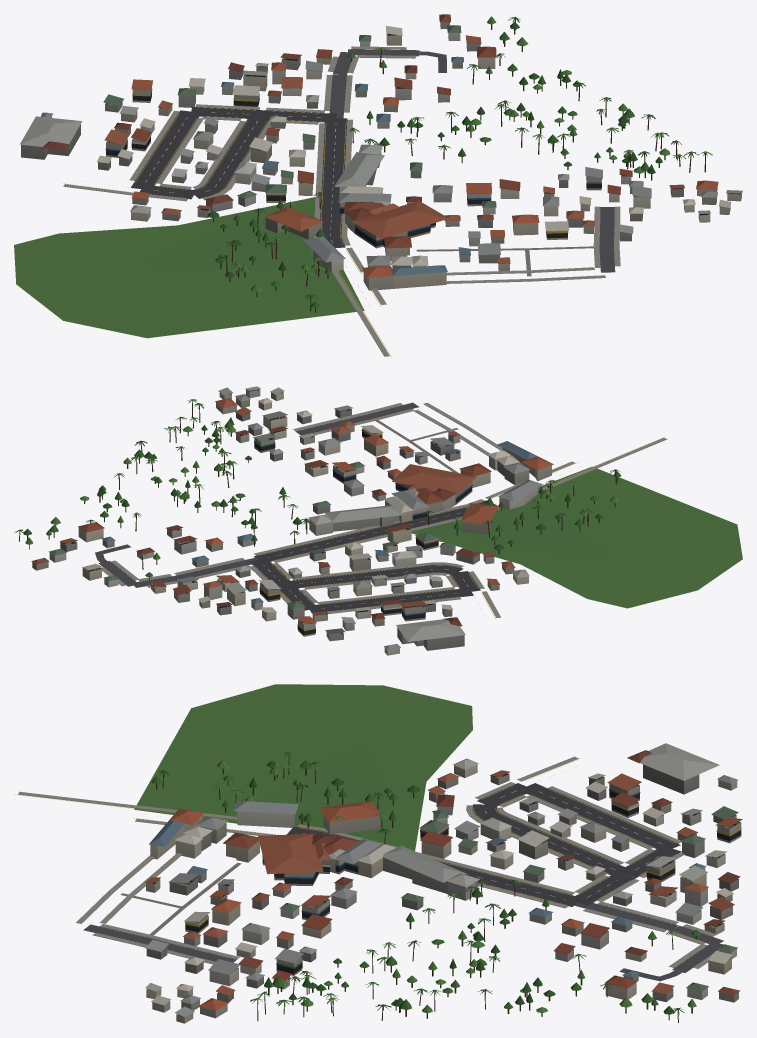
3 renders of one model, top to bottom at view 1: azimuth 30°, elevation 25°; view 2: azimuth 150°, elevation 25°; view 3: azimuth 270°, elevation 25°, orthographic. The views are drawn at different scales.
Visible parts, largest first — view 1: Landuse__r0c-2, Buildings_Infill__r0c-2-col, Buildings__r0c-2-col, Roads_Major__r0c-2, Sidewalks__r0c-2-col, Props_Foliage__r0c-2, Roads_Minor__r0c-2, Props_Solid__r0c-2-col, Markings__r0c-2; view 2: Landuse__r0c-2, Buildings_Infill__r0c-2-col, Buildings__r0c-2-col, Sidewalks__r0c-2-col, Roads_Major__r0c-2, Props_Foliage__r0c-2, Roads_Minor__r0c-2, Props_Solid__r0c-2-col, Markings__r0c-2; view 3: Landuse__r0c-2, Buildings_Infill__r0c-2-col, Buildings__r0c-2-col, Sidewalks__r0c-2-col, Roads_Major__r0c-2, Props_Foliage__r0c-2, Roads_Minor__r0c-2, Props_Solid__r0c-2-col, Markings__r0c-2, Footways__r0c-2.
Part boxes in pixels (x1,y1,x2,y2): Landuse__r0c-2: (14,197,364,338); Buildings_Infill__r0c-2-col: (41,14,742,271); Buildings__r0c-2-col: (20,116,448,290); Roads_Major__r0c-2: (131,107,347,248); Sidewalks__r0c-2-col: (63,46,620,356); Props_Foliage__r0c-2: (207,16,712,308); Roads_Minor__r0c-2: (329,49,615,272); Props_Solid__r0c-2-col: (213,17,705,312); Markings__r0c-2: (62,107,391,357); Landuse__r0c-2: (411,466,742,608); Buildings_Infill__r0c-2-col: (31,386,529,655); Buildings__r0c-2-col: (308,441,553,650); Sidewalks__r0c-2-col: (101,402,667,617); Roads_Major__r0c-2: (249,500,497,612); Props_Foliage__r0c-2: (14,399,620,577); Roads_Minor__r0c-2: (95,402,418,587); Props_Solid__r0c-2-col: (19,403,617,580); Markings__r0c-2: (254,437,663,618); Landuse__r0c-2: (134,684,472,851); Buildings_Infill__r0c-2-col: (145,758,742,1023); Buildings__r0c-2-col: (149,743,719,900); Sidewalks__r0c-2-col: (18,756,719,968); Roads_Major__r0c-2: (287,783,681,906); Props_Foliage__r0c-2: (151,752,700,1014); Roads_Minor__r0c-2: (83,903,723,981); Props_Solid__r0c-2-col: (156,754,696,1022); Markings__r0c-2: (15,758,676,904); Footways__r0c-2: (120,862,241,938).
Bounding box in the file's own units: 335 × 11.51 × 303.
